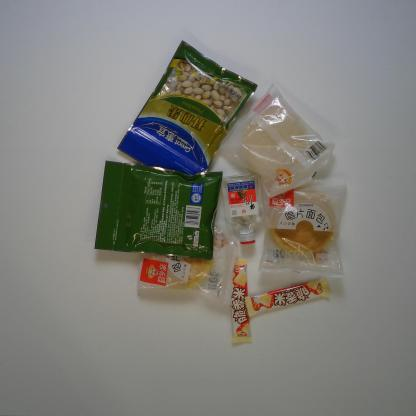Alcohol: (218, 169, 264, 246)
Chocolate: (244, 275, 334, 319), (226, 257, 253, 345)
Dessert: (216, 78, 340, 200), (256, 176, 350, 278), (134, 230, 231, 298)
Dried Fruit: (114, 38, 260, 181), (92, 158, 223, 262)
